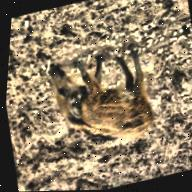boar: (39, 42, 163, 158)
